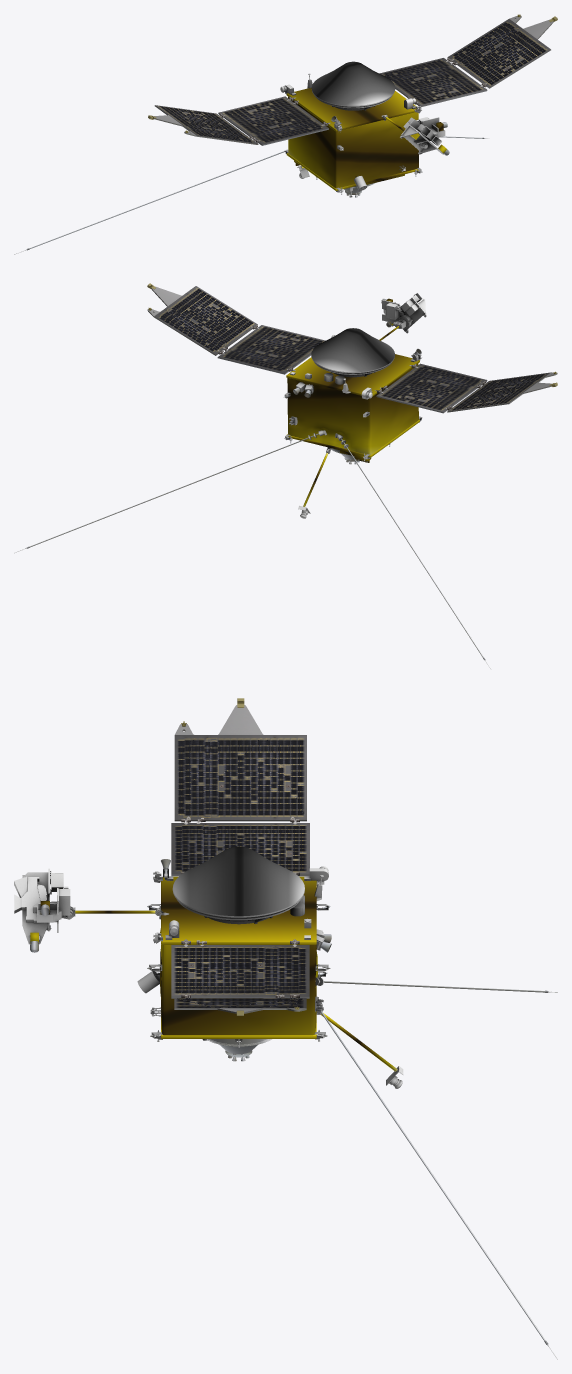
Rendered from MAVEN_B.glb.
3 renders of one model, top to bottom at view 1: azimuth 30°, elevation 25°; view 2: azimuth 150°, elevation 25°; view 3: azimuth 270°, elevation 25°, orthographic. The views are drawn at different scales.
Parts seen in each view (by area): view 1: shiny_panel, foil_gold, foil_silver, tex_01, parts, dish_frame; view 2: shiny_panel, foil_gold, tex_01, foil_silver, parts; view 3: shiny_panel, foil_gold, foil_silver, parts, tex_01.
Part boxes in pixels (x1,y1,x2,y2): shiny_panel: [155, 19, 550, 144]; foil_gold: [286, 88, 446, 190]; foil_silver: [311, 61, 395, 105]; tex_01: [14, 15, 553, 254]; parts: [148, 14, 557, 197]; dish_frame: [311, 89, 395, 110]; shiny_panel: [154, 286, 550, 411]; foil_gold: [286, 298, 419, 506]; tex_01: [14, 286, 557, 668]; foil_silver: [311, 328, 394, 372]; parts: [147, 283, 557, 518]; shiny_panel: [171, 735, 309, 1008]; foil_gold: [30, 876, 397, 1071]; foil_silver: [172, 846, 304, 916]; parts: [14, 698, 403, 1088]; tex_01: [30, 705, 557, 1359].
Size of the model in its own units: 13.13 by 5.42 by 8.22.
10 materials, 10 textured.
